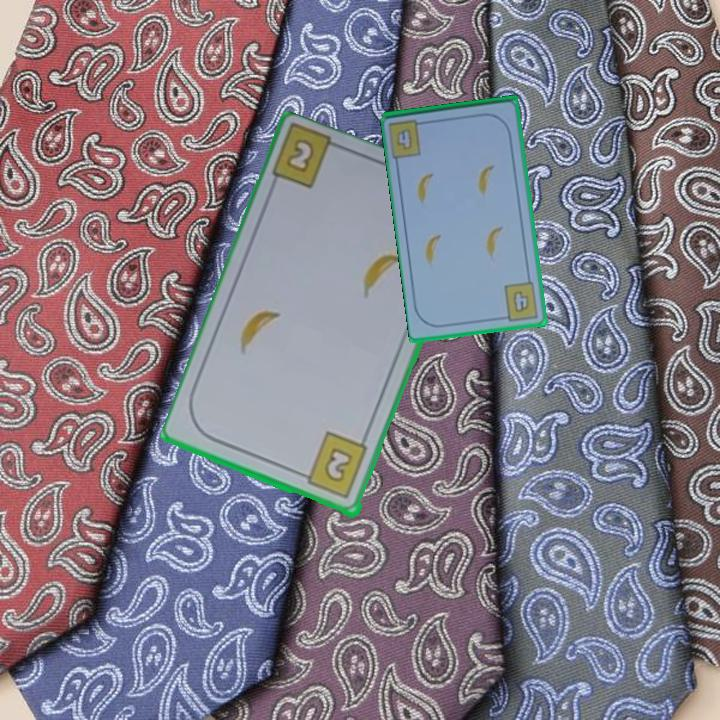2b: (296, 429, 371, 502), (282, 135, 318, 177)
4b: (498, 278, 542, 324), (393, 125, 416, 153)
